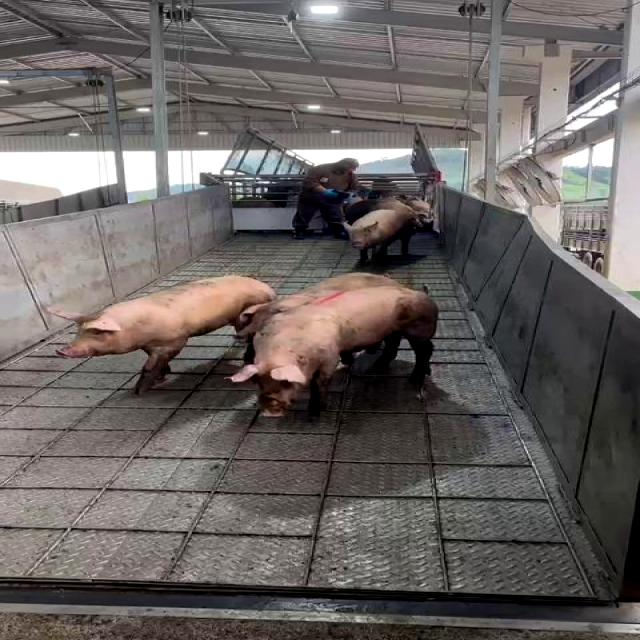pig: (231, 286, 438, 416), (46, 276, 275, 392), (238, 272, 402, 341), (348, 201, 422, 262)
